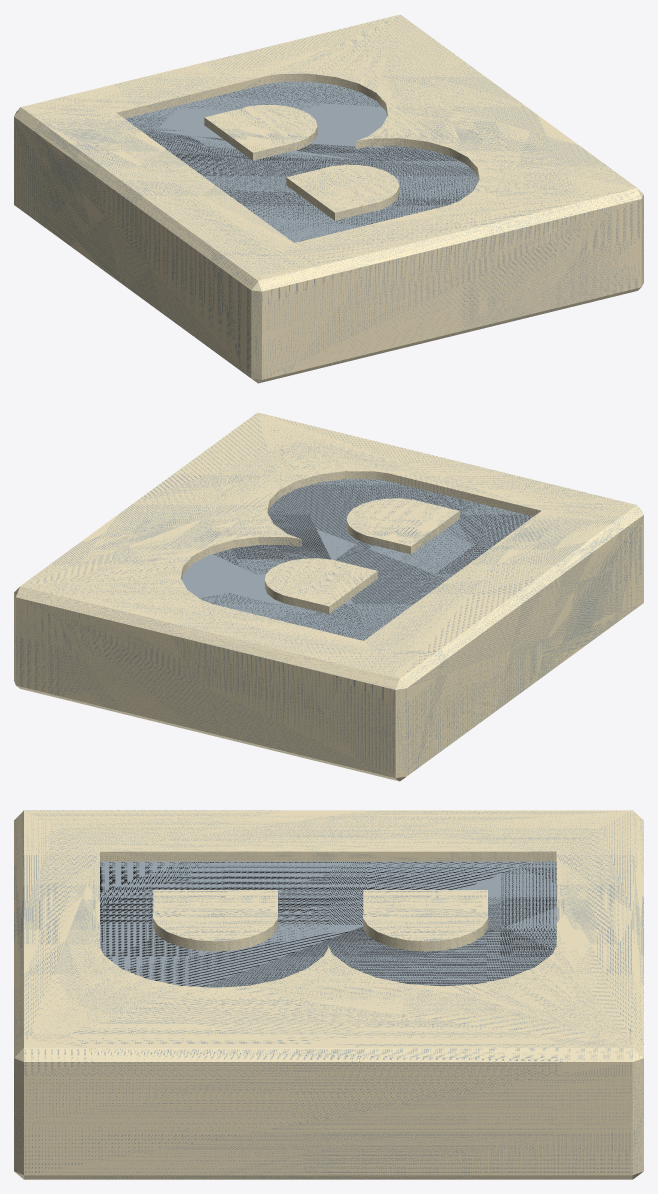
File: Boardgame_Anagram_Tile_B.fbx
3 views of the same model, one above another, from view 1: azimuth 30°, elevation 25°; view 2: azimuth 150°, elevation 25°; view 3: azimuth 270°, elevation 25° (orthographic). The views are drawn at different scales.
Parts seen in each view (by area): view 1: Model; view 2: Model; view 3: Model.
Part boxes in pixels (box(x1,y1,x2,y2)): Model: box(14, 14, 643, 383); Model: box(14, 412, 643, 781); Model: box(14, 810, 643, 1179).
Size of the model in its own units: 195 by 48.83 by 212.
